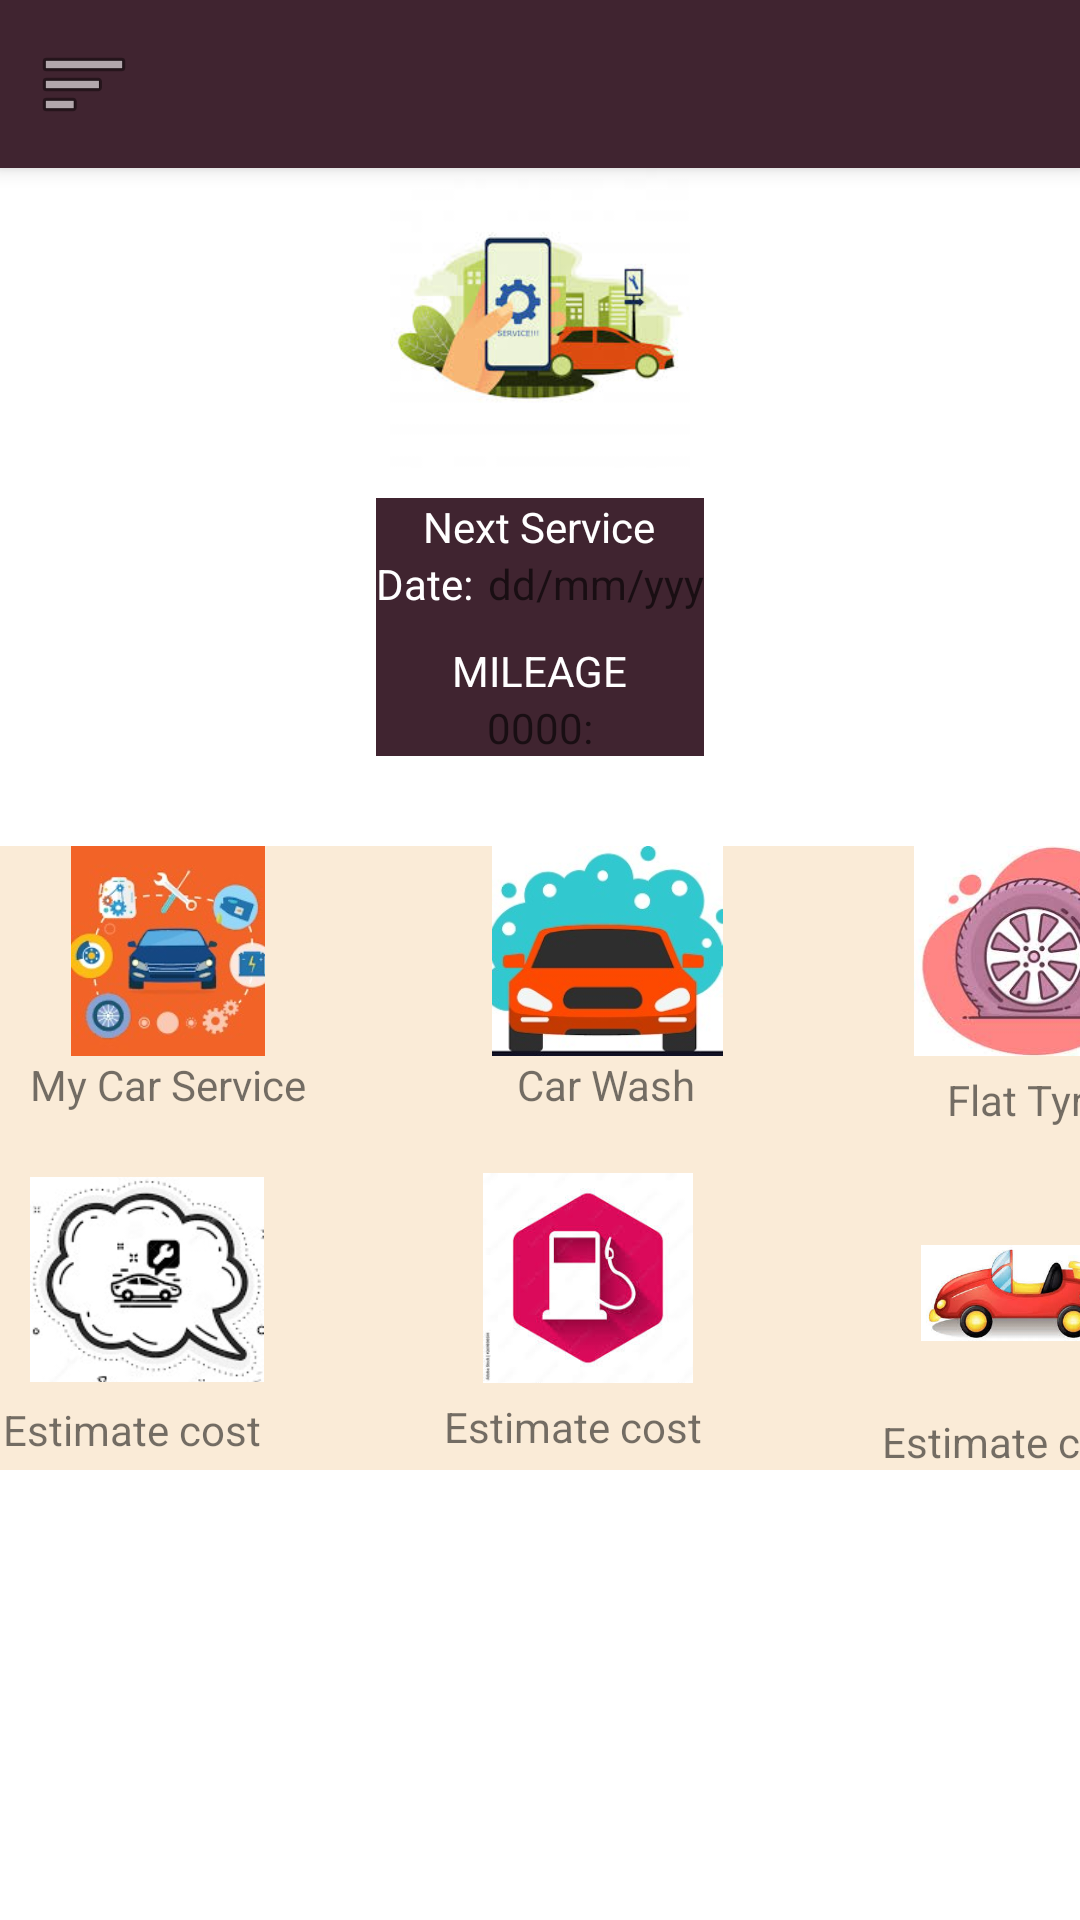

Where icons sit on this 1080 × 1920 app screen, as (left=x1, top=y1, right=x2, bottom=y2):
fuel: (left=483, top=1173, right=693, bottom=1383)
quote: (left=30, top=1177, right=264, bottom=1382)
